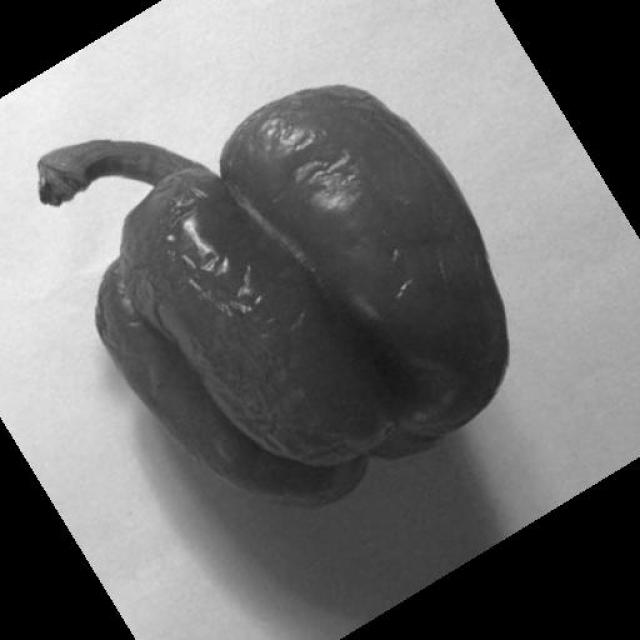Stale_Capsicum: (79, 101, 509, 479)
